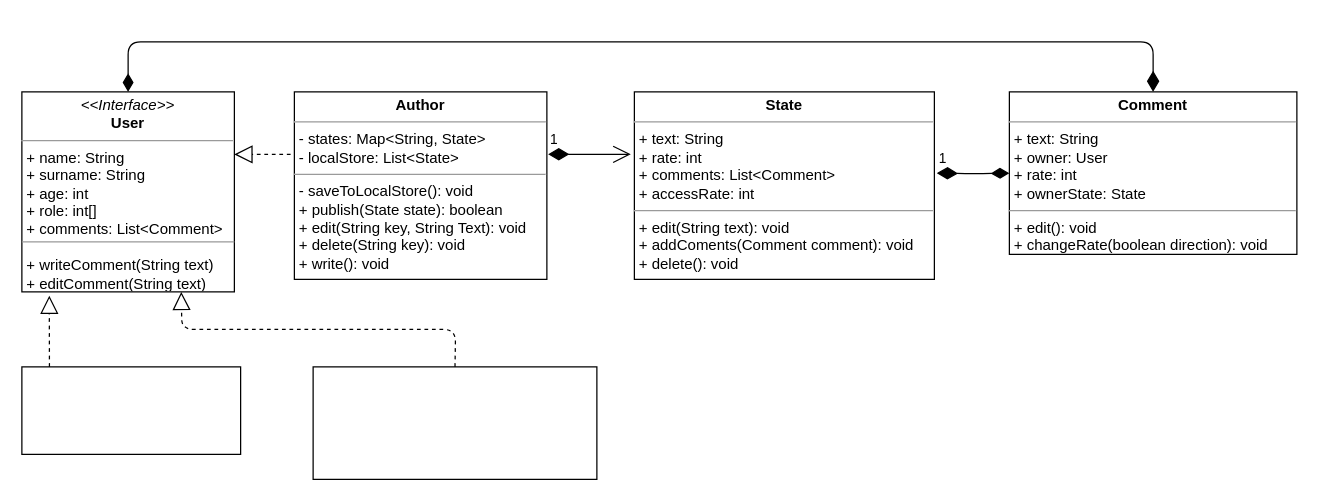
Some shapes in this 1319 by 501 pixel diagram are drawn without their labels. Here are the shapes that lost their labels. From the top down, the centre of each, then its label:
At (x=131, y=410): "Moderator + checkText(): boolean + checkPrivilegies(): boolean".
At (x=454, y=422): "Reader + rate: int + changeRate(boolean direction): void".
